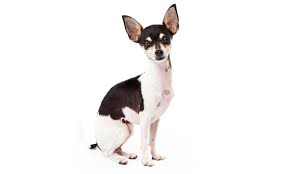chihuahua: (82, 1, 193, 174)
